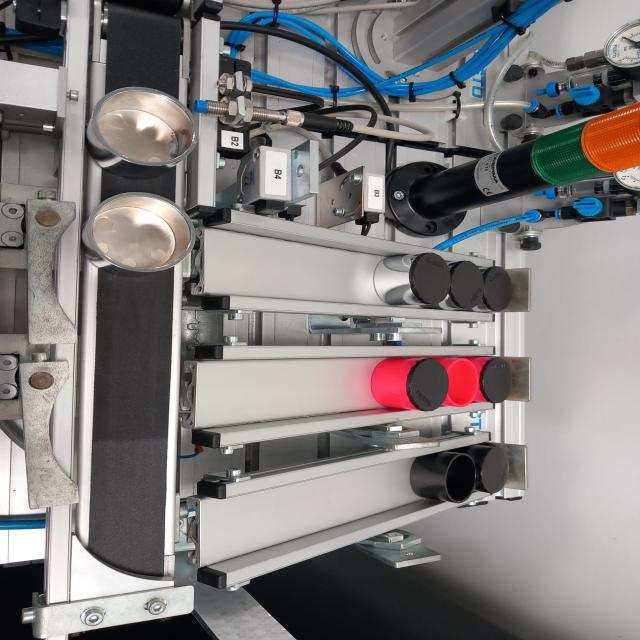NoLid: (82, 192, 204, 285), (89, 80, 202, 180), (415, 456, 478, 504), (442, 352, 481, 408)
Workpiece: (370, 357, 450, 417), (381, 252, 453, 306), (475, 444, 521, 500), (482, 355, 515, 412), (454, 256, 486, 310), (488, 262, 520, 313)
